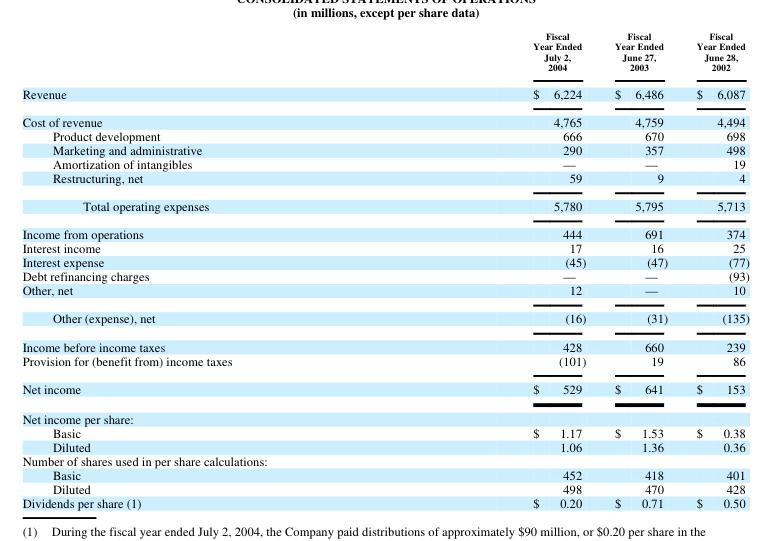table: (21, 28, 748, 510)
table column: (21, 28, 381, 510), (381, 28, 599, 510), (599, 28, 681, 510), (681, 28, 748, 510)
table column header: (21, 28, 748, 79)
table projected row header: (21, 402, 748, 424), (21, 452, 748, 466)
table row: (21, 28, 748, 79), (21, 373, 748, 402), (21, 79, 748, 107), (21, 191, 748, 219), (21, 303, 748, 331), (21, 402, 748, 424), (21, 107, 748, 128), (21, 170, 748, 191), (21, 219, 748, 240), (21, 282, 748, 303), (21, 331, 748, 352), (21, 352, 748, 373), (21, 494, 748, 510), (21, 128, 748, 142), (21, 142, 748, 156), (21, 156, 748, 170), (21, 240, 748, 254), (21, 254, 748, 268), (21, 268, 748, 282), (21, 424, 748, 438), (21, 438, 748, 452), (21, 452, 748, 466), (21, 466, 748, 480), (21, 480, 748, 494)
